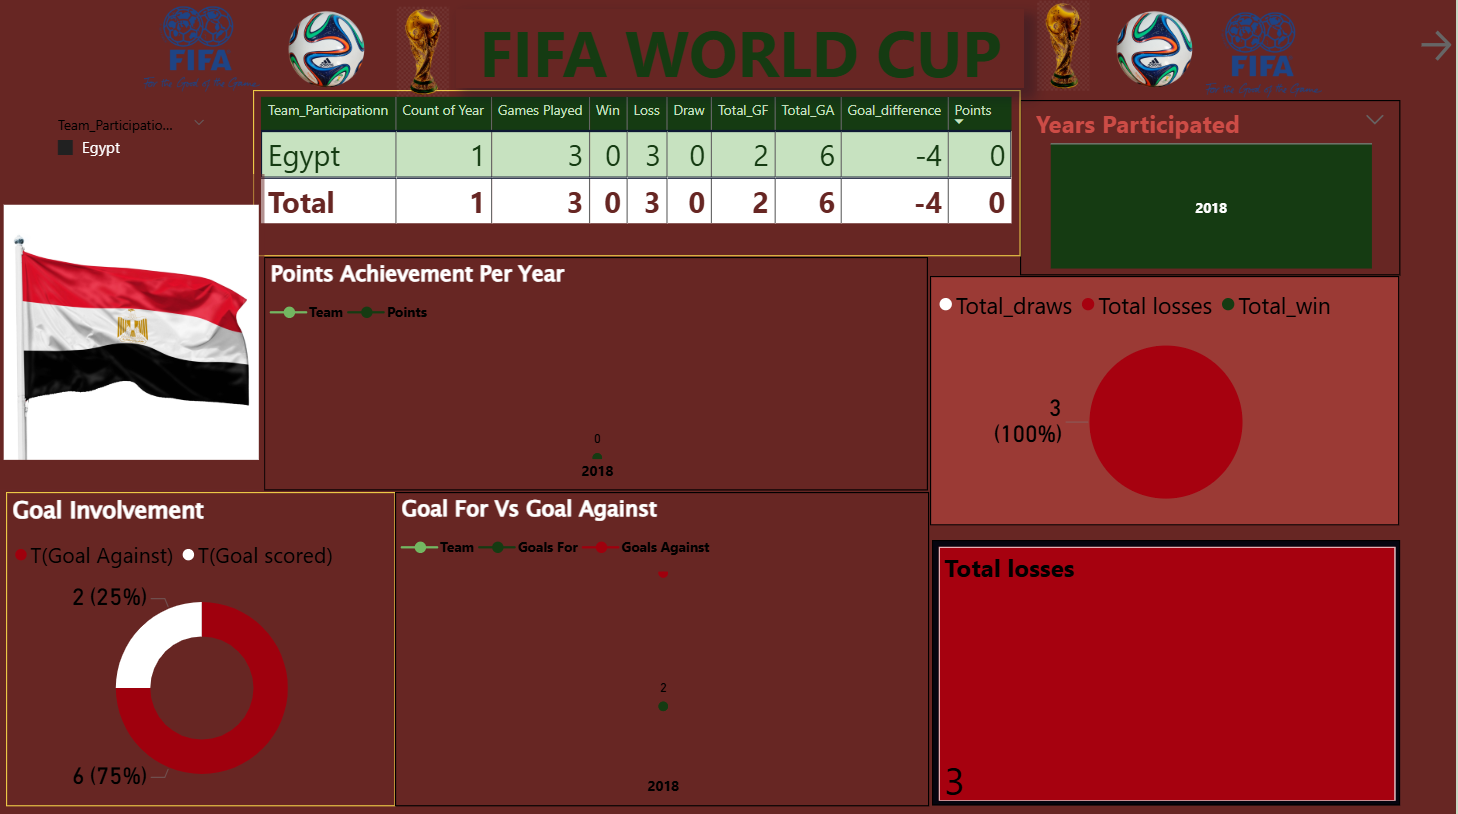

What the dashboard file says about the page in this screenshot:
{"tool":"powerbi","page":{"name":"Team Egypt","canvas":[1280,720],"ordinal":3},"visuals":[{"type":"slicer","fields":{"Values":["WC_02-20.Year"]},"box":[897.2,92,333.6,154.5],"z":0},{"type":"donutChart","title":"Goal Involvement","fields":{"Y":["DAX1.Total_GA","DAX1.Total_GF"]},"box":[6.6,436,341.9,275.8],"z":1000},{"type":"treemap","fields":{"Values":["DAX1.T(Draws)","DAX1.Total_win","DAX1.Total losses"]},"box":[819.9,478.2,410.8,233.3],"z":2000},{"type":"lineChart","title":"Goal For Vs Goal Against","fields":{"Category":["WC_02-20.Year"],"Y2":["Sum(WC_02-20.Goals For)","Sum(WC_02-20.Goals Against)"],"Y":["CountNonNull(Team.Team_Participationn)"]},"box":[348.5,436,469.1,275.8],"z":3000},{"type":"tableEx","fields":{"Values":["Team.Team_Participationn","CountNonNull(WC_02-20.Year)","Sum(WC_02-20.Games Played)","Sum(WC_02-20.Win)","Sum(WC_02-20.Loss)","Sum(WC_02-20.Draw)","DAX1.Total_GF","DAX1.Total_GA","DAX1.Goal_difference","Sum(WC_02-20.Points)"]},"box":[223.5,83.8,673.7,146.2],"z":4000},{"type":"textbox","title":"FIFA WORLD CUP","box":[401.7,12.7,499.3,69.3],"z":5000},{"type":"image","box":[817.6,0,236.2,89.1],"z":6000},{"type":"image","box":[236.2,5.7,273,89.1],"z":7000},{"type":"image","box":[123.1,0,111.7,94.8],"z":8000},{"type":"image","box":[1055.2,5.7,111.7,94.8],"z":9000},{"type":"image","box":[239.1,0,99,94.8],"z":10000},{"type":"image","box":[966.1,0,99,94.8],"z":11000},{"type":"actionButton","box":[1244,24.6,36,39.3],"z":12000},{"type":"pieChart","fields":{"Y":["DAX1.T(Draws)","DAX1.Total losses","DAX1.Total_win"]},"box":[818.3,246.5,412.4,218.5],"z":14000},{"type":"lineChart","title":"Points Achievement Per Year","fields":{"Category":["WC_02-20.Year"],"Y":["CountNonNull(Team.Team_Participationn)"],"Y2":["Sum(WC_02-20.Points)"]},"box":[233.3,230,583.3,205.4],"z":15000},{"type":"slicer","fields":{"Values":["Team.Team_Participationn"]},"box":[39.5,100.1,154.5,80.8],"z":16001},{"type":"image","box":[0,157.2,233.6,277.5],"z":16002}]}

Visuals, with their boxes in screenshot pixels (x1, y1, x2, y2), scaled from the page's 1280x720 canvas onto the 1458x814 screenshot:
slicer - WC_02-20.Year: (1022,104,1402,279)
"Goal Involvement" donutChart: (8,493,397,805)
treemap - DAX1.T(Draws) x DAX1.Total_win: (934,541,1402,804)
"Goal For Vs Goal Against" lineChart: (397,493,931,805)
tableEx - Team.Team_Participationn x CountNonNull(WC_02-20.Year): (255,95,1022,260)
"FIFA WORLD CUP" textbox: (458,14,1026,93)
image: (931,0,1200,101)
image: (269,6,580,107)
image: (140,0,267,107)
image: (1202,6,1329,114)
image: (272,0,385,107)
image: (1100,0,1213,107)
actionButton: (1417,28,1457,72)
pieChart - DAX1.T(Draws) x DAX1.Total losses: (932,279,1402,526)
"Points Achievement Per Year" lineChart: (266,260,930,492)
slicer - Team.Team_Participationn: (45,113,221,205)
image: (0,178,266,491)
